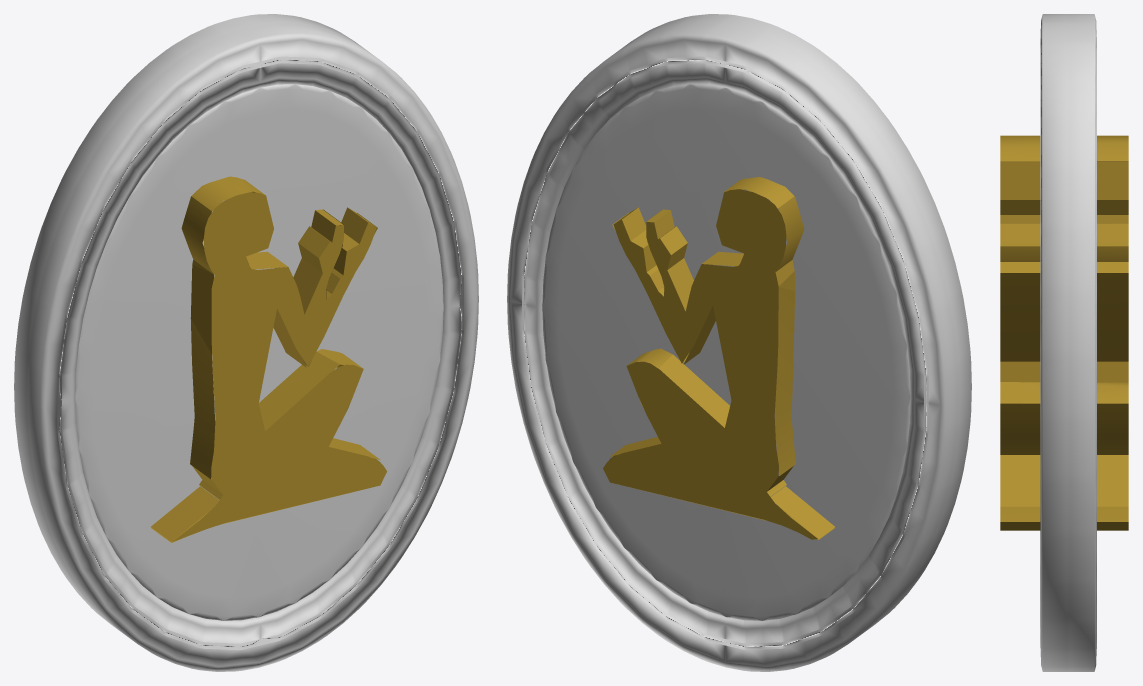
File: Hombre_key.fbx
3 renders of one model, left to right at view 1: azimuth 30°, elevation 25°; view 2: azimuth 150°, elevation 25°; view 3: azimuth 270°, elevation 25°, orthographic.
Parts seen in each view (by area): view 1: Cylinder, Hombre; view 2: Cylinder, Hombre; view 3: Cylinder, Hombre.
Boxes of the visible parts, box(x1,y1,x2,y2) form: Cylinder: box(14, 14, 478, 671); Hombre: box(151, 176, 386, 542); Cylinder: box(507, 14, 971, 671); Hombre: box(603, 177, 834, 539); Cylinder: box(1040, 14, 1096, 671); Hombre: box(1000, 135, 1128, 530).
Size of the model in its own units: 6.23 by 8.55 by 1.6.
